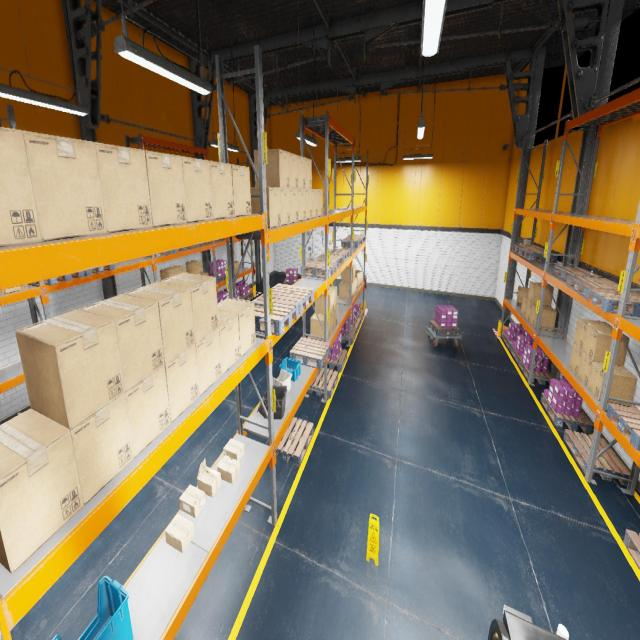box: (0, 408, 83, 572), (15, 309, 125, 429), (22, 130, 107, 242), (77, 294, 164, 392), (70, 393, 134, 505), (123, 282, 195, 364), (95, 142, 152, 233), (0, 127, 42, 246), (157, 273, 219, 343), (125, 366, 171, 458), (144, 150, 187, 227), (165, 344, 199, 422), (217, 298, 256, 357), (588, 362, 637, 406), (182, 156, 213, 222), (582, 325, 629, 366), (195, 328, 222, 395), (209, 160, 234, 218), (218, 310, 240, 374), (254, 149, 289, 188), (573, 318, 613, 351), (250, 186, 281, 228), (165, 514, 194, 553), (231, 164, 251, 216), (197, 458, 221, 497), (179, 484, 206, 518), (529, 304, 557, 330), (217, 455, 240, 484), (527, 282, 554, 306), (525, 300, 551, 322), (310, 313, 330, 341), (578, 352, 592, 388), (314, 290, 334, 314), (223, 439, 244, 461), (569, 343, 582, 376), (280, 189, 290, 225), (289, 152, 298, 188), (290, 188, 298, 223), (338, 281, 352, 300), (516, 286, 529, 306), (341, 264, 355, 282), (298, 154, 305, 188), (4, 284, 27, 294), (298, 189, 305, 221), (186, 260, 202, 274), (305, 157, 312, 188), (328, 286, 337, 310), (305, 189, 312, 219), (160, 268, 177, 280), (520, 296, 528, 317), (227, 261, 239, 274), (168, 265, 185, 274), (312, 189, 317, 218), (355, 270, 363, 286), (348, 280, 355, 296), (318, 189, 322, 216), (330, 310, 333, 335), (334, 306, 336, 329), (202, 272, 208, 276), (0, 289, 4, 295), (355, 277, 356, 293)
forklift: (488, 604, 568, 639)
pallets: (563, 428, 630, 486), (541, 392, 593, 434), (252, 296, 299, 336), (276, 418, 313, 467), (260, 283, 314, 315), (584, 286, 640, 316), (606, 403, 640, 450), (566, 275, 633, 297), (290, 337, 330, 369), (519, 358, 555, 385), (308, 367, 338, 399), (553, 266, 603, 282), (300, 260, 338, 279), (35, 271, 85, 285), (623, 529, 640, 570), (323, 348, 347, 372), (520, 248, 558, 262), (430, 320, 460, 335), (315, 254, 343, 268), (84, 264, 115, 276), (512, 244, 544, 254), (330, 248, 349, 262), (341, 327, 356, 344), (341, 237, 362, 248), (510, 344, 520, 364), (147, 250, 174, 257), (502, 332, 512, 350), (347, 234, 365, 243), (209, 274, 226, 283), (168, 246, 192, 252), (352, 318, 361, 333), (356, 309, 364, 323), (240, 292, 253, 300), (192, 242, 209, 248), (283, 279, 299, 285)
